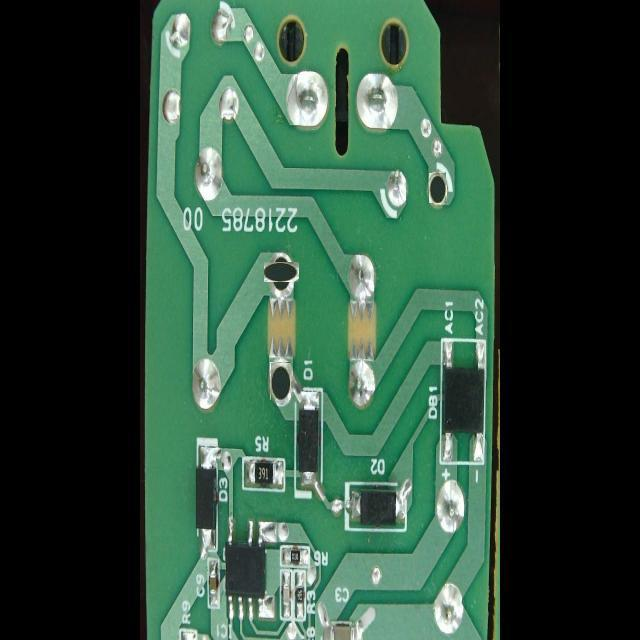damged: (267, 258, 295, 286), (270, 362, 290, 400), (428, 172, 446, 203)
